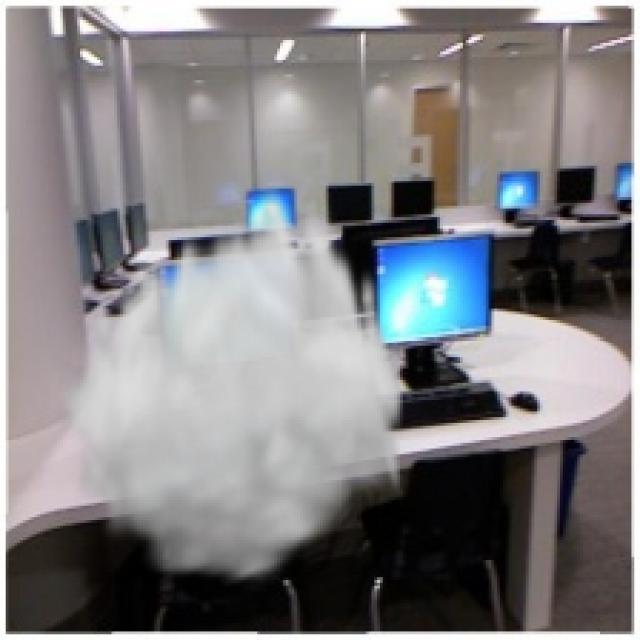smoke: (54, 174, 409, 592)
